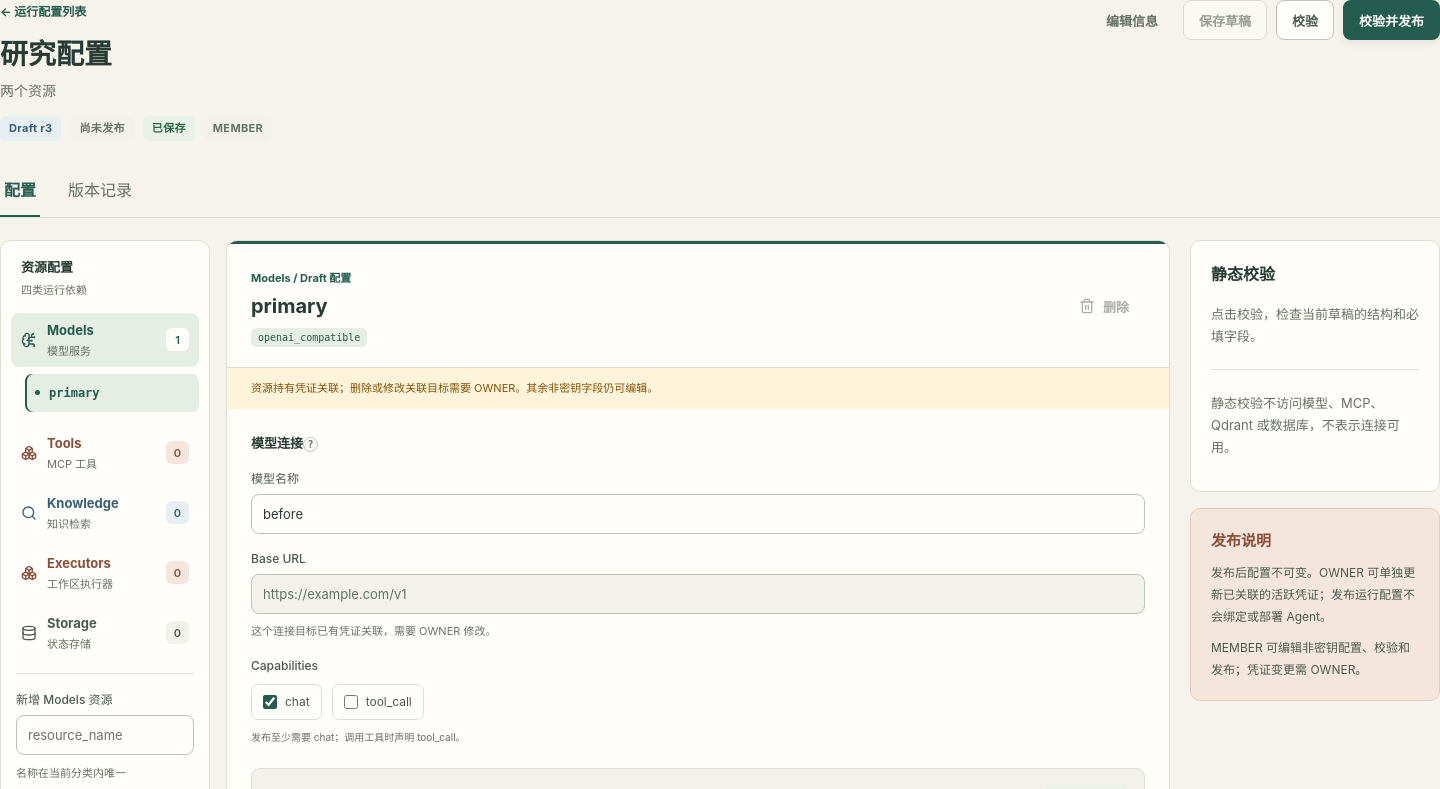
Test: Runtime Profile workspace › allows MEMBER authoring and publishing but offers no credential controls
Expected: the heading "研究配置" is shown, 0,37 -> 112,71
Click the button "校验并发布": {"x": 1392, "y": 20} 1343,0 -> 1439,40
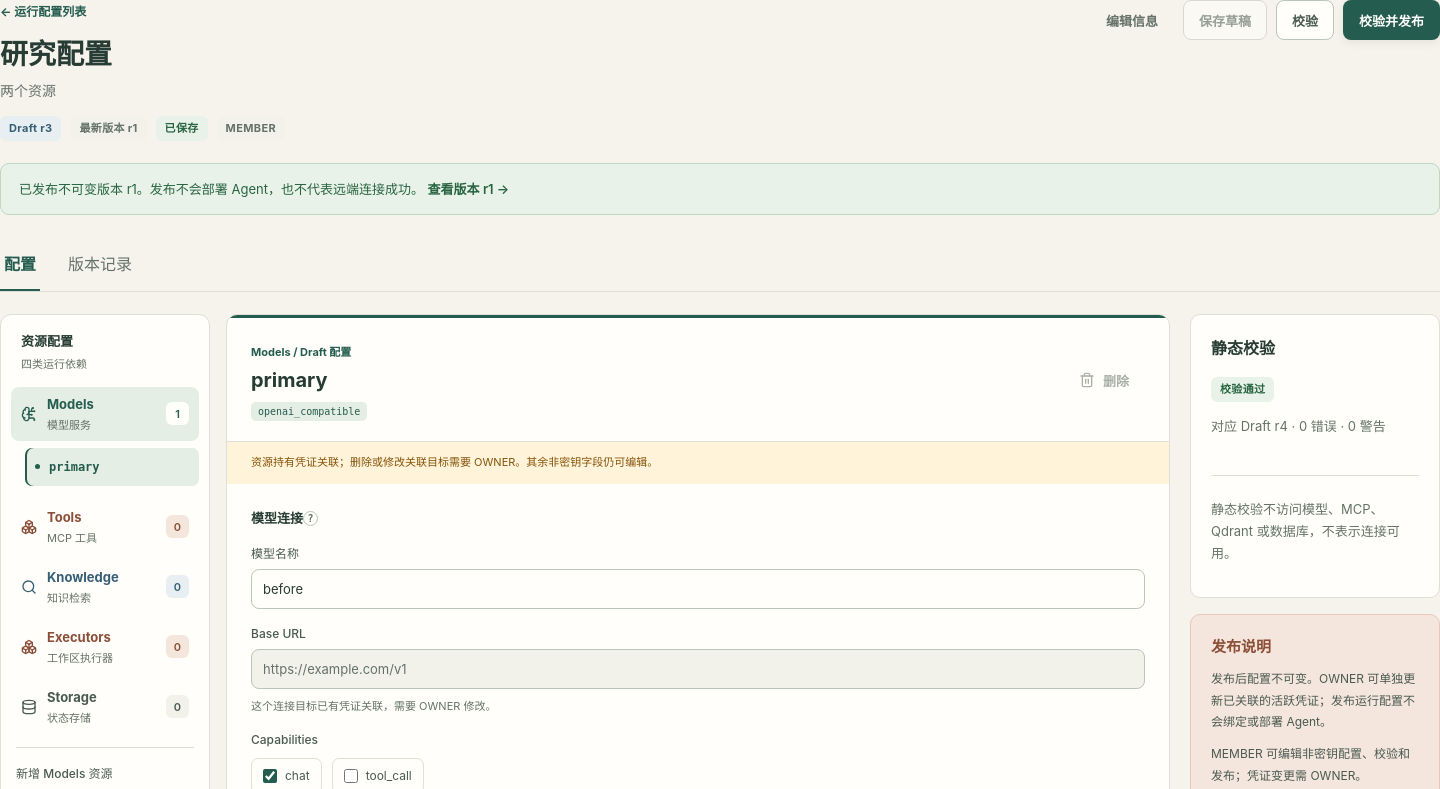
Now the link "查看版本 r1 →" is shown, box 428,181 -> 509,197
